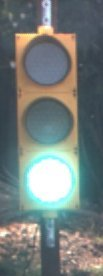Green: (7, 21, 94, 242)
